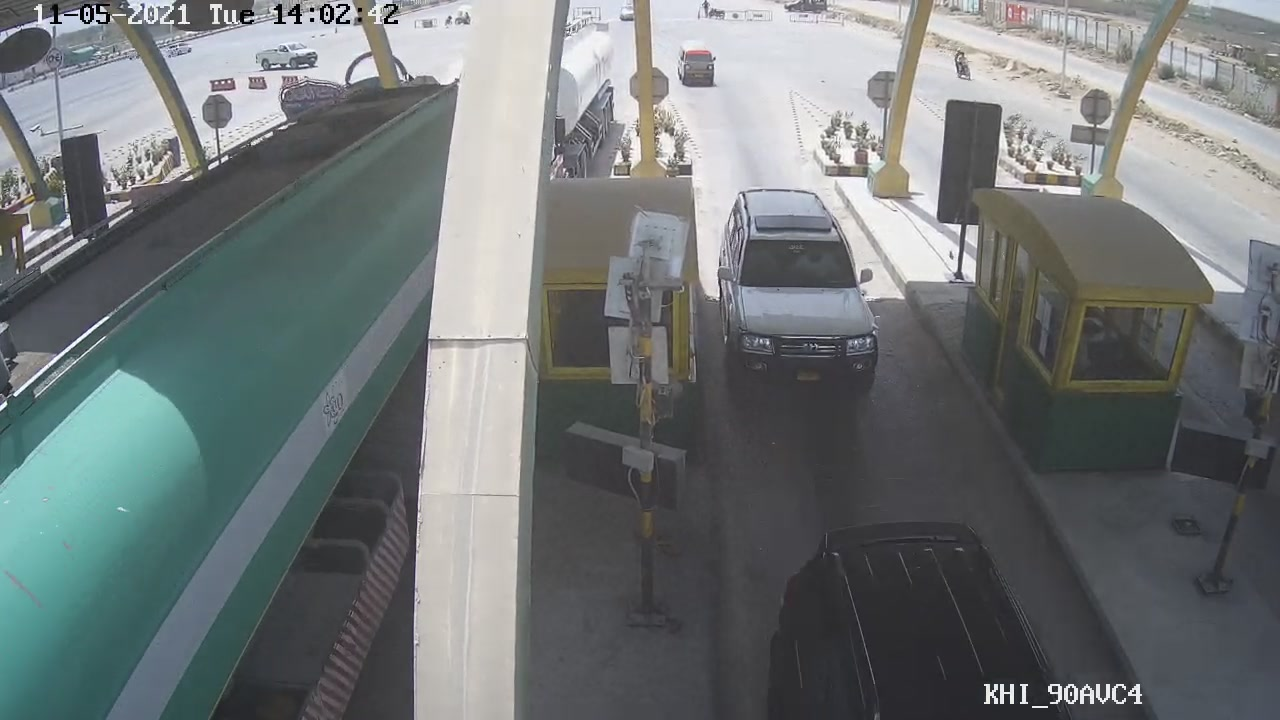F1: (709, 174, 897, 397)
